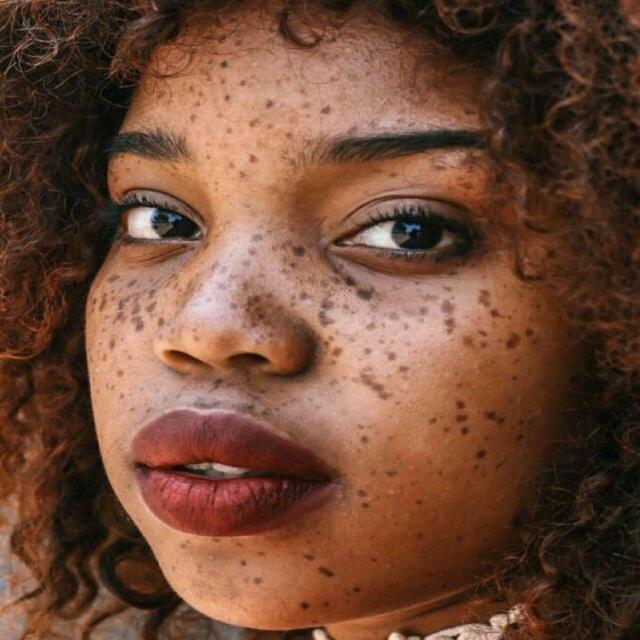freckle: (106, 246, 523, 361), (351, 362, 530, 562), (170, 37, 337, 181)
